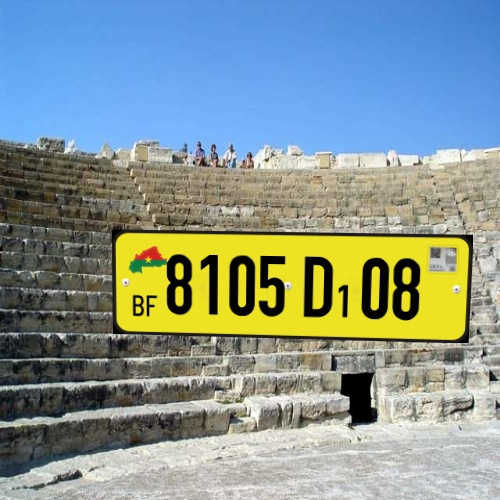plate: (103, 216, 485, 360)
